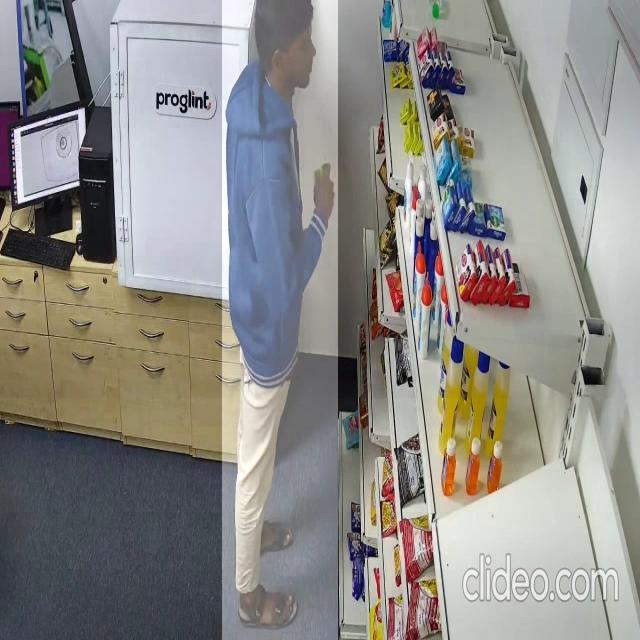normal: (222, 0, 338, 640)
